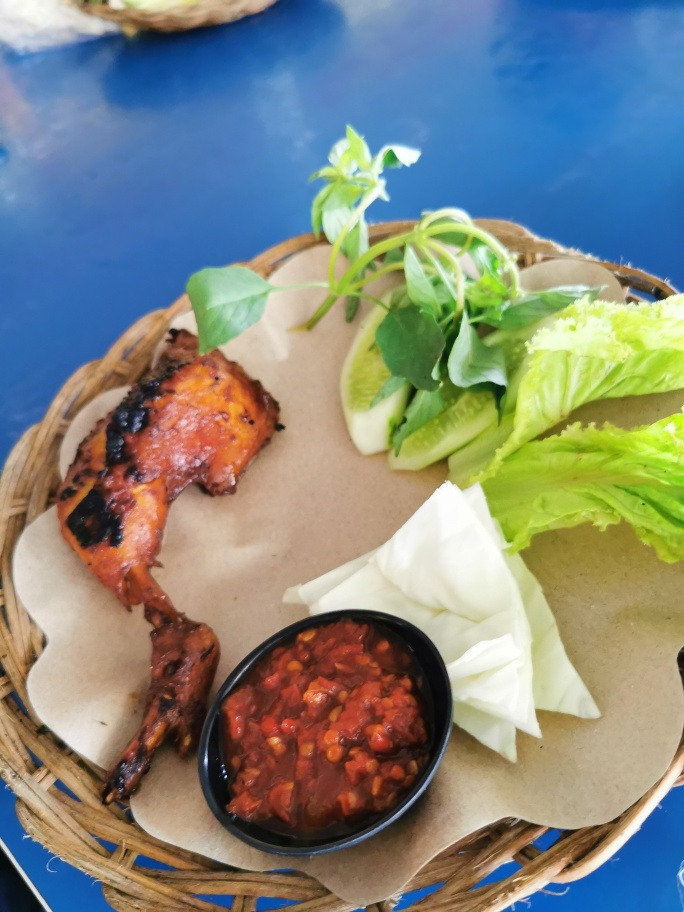ayam bakar: (50, 320, 286, 808)
